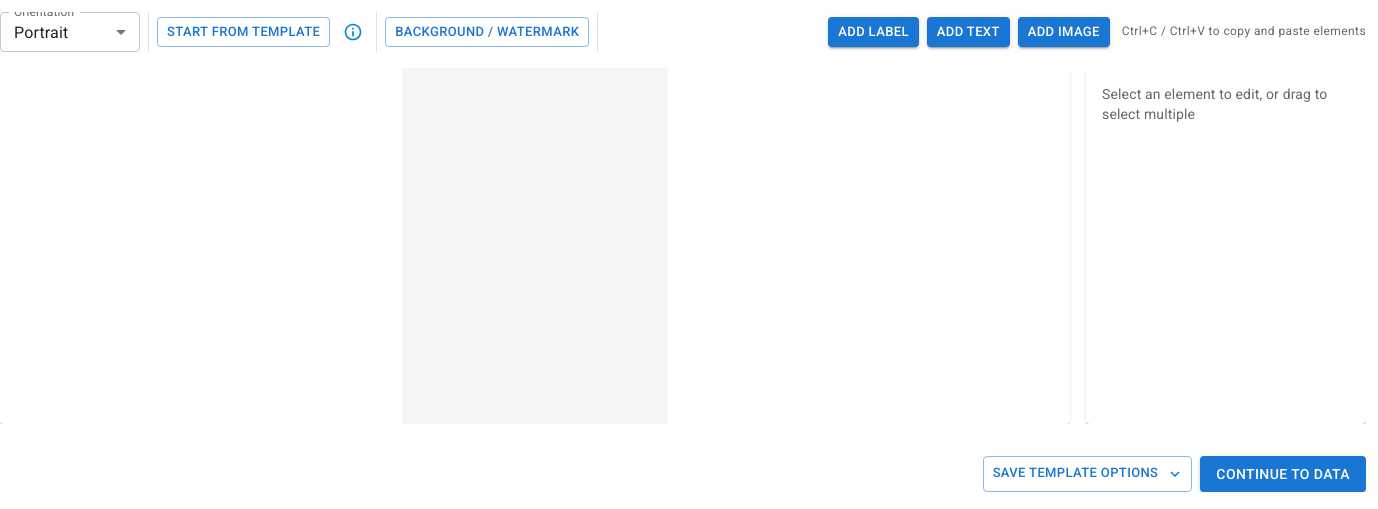
it: DesignStep — save template flow › hides "Save" (overwrite) in the menu when there is no current user template source
Step 1. Click the button "Save Template Options" → (1087, 474), box [983,456,1192,492]
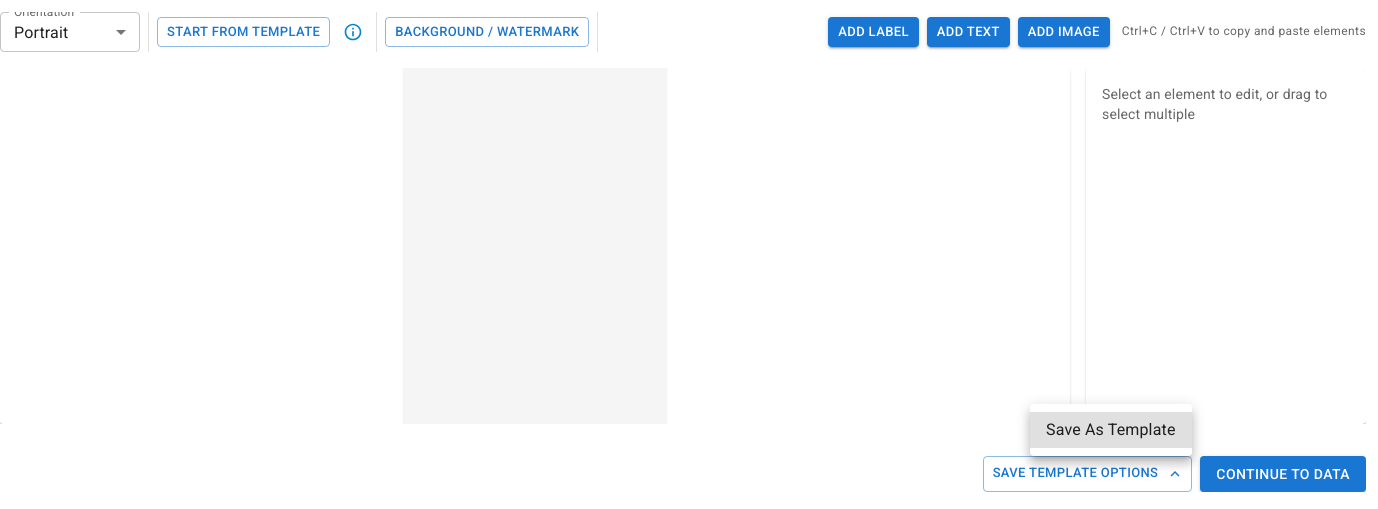
Expected: the menu item "Save As Template" is shown, [1030,412,1192,448]
